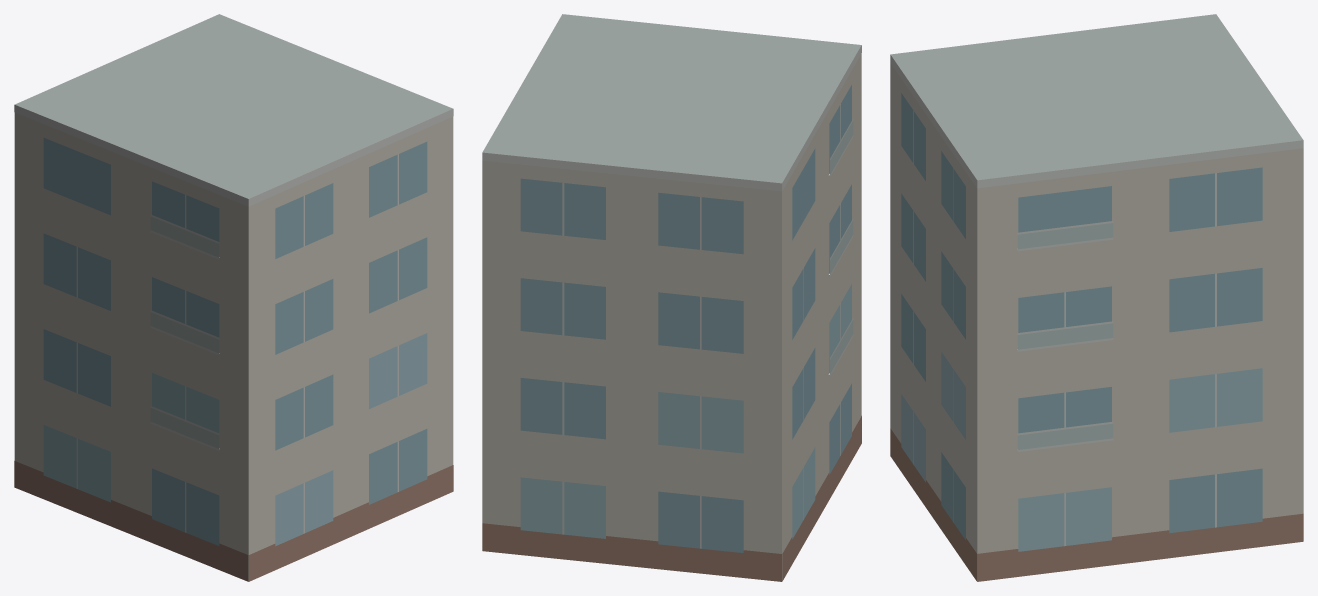
The model's file is residential-42806a0f-b929-4a53-af38-4f881264caac.glb.
3 views of the same model, side by side, from view 1: azimuth 30°, elevation 25°; view 2: azimuth 150°, elevation 25°; view 3: azimuth 270°, elevation 25° (orthographic). The views are drawn at different scales.
Visible parts, largest first — view 1: residential-42806a0f-b929-4a53-af38-4f881264caac.tmp; view 2: residential-42806a0f-b929-4a53-af38-4f881264caac.tmp; view 3: residential-42806a0f-b929-4a53-af38-4f881264caac.tmp.
Part boxes in pixels (x1,y1,x2,y2): residential-42806a0f-b929-4a53-af38-4f881264caac.tmp: [14, 14, 453, 581]; residential-42806a0f-b929-4a53-af38-4f881264caac.tmp: [482, 14, 861, 581]; residential-42806a0f-b929-4a53-af38-4f881264caac.tmp: [890, 14, 1303, 581].
Size of the model in its own units: 10.85 by 12.2 by 11.39.
